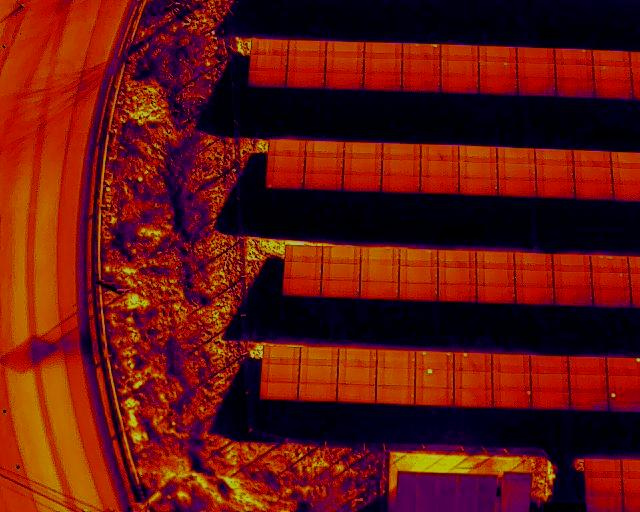Cell: (416, 368, 454, 387), (454, 353, 491, 372), (493, 390, 531, 408), (478, 60, 516, 76), (555, 49, 592, 65), (266, 173, 303, 188)
Cell-Multi: (415, 351, 453, 369), (402, 42, 441, 58)
No-Anomaly: (592, 289, 631, 308), (441, 74, 480, 93), (376, 385, 415, 404), (518, 77, 556, 96), (401, 74, 441, 92), (585, 458, 622, 477), (455, 371, 492, 390), (438, 284, 477, 302), (376, 368, 415, 386), (287, 39, 326, 57), (459, 145, 497, 163), (300, 347, 338, 365), (438, 250, 476, 268), (399, 283, 437, 301), (400, 249, 438, 267), (377, 350, 415, 368), (338, 349, 376, 367), (306, 140, 344, 158), (552, 254, 590, 272), (592, 272, 630, 290), (283, 279, 321, 297), (364, 41, 402, 59), (492, 354, 530, 372), (326, 40, 364, 58), (570, 392, 608, 410), (364, 72, 402, 90), (593, 65, 631, 83), (337, 384, 375, 402), (298, 383, 336, 401), (531, 373, 569, 391), (416, 388, 454, 406), (338, 367, 376, 385), (300, 365, 338, 383), (260, 382, 298, 400), (454, 389, 492, 407), (479, 76, 517, 94), (515, 252, 552, 270), (360, 264, 397, 282), (286, 245, 323, 263), (569, 356, 606, 374), (585, 478, 622, 496), (402, 58, 439, 76), (325, 71, 362, 89), (531, 355, 568, 373), (535, 164, 574, 181), (535, 148, 574, 165), (399, 266, 438, 283), (305, 157, 344, 174), (516, 46, 555, 63), (594, 82, 633, 99), (286, 71, 325, 88), (263, 346, 299, 364), (251, 38, 287, 56), (383, 160, 421, 177), (537, 180, 575, 197), (591, 255, 629, 272), (421, 160, 459, 177), (421, 177, 459, 194), (575, 183, 613, 200), (323, 246, 361, 263), (515, 287, 553, 304), (361, 248, 399, 265), (476, 252, 514, 269), (360, 281, 398, 298), (476, 268, 514, 285), (321, 280, 359, 297), (515, 270, 553, 287), (573, 150, 611, 167), (344, 142, 382, 159), (459, 161, 497, 178), (382, 176, 420, 193), (554, 289, 592, 306), (322, 263, 360, 280), (556, 79, 594, 96), (531, 391, 569, 408), (517, 62, 555, 79), (478, 45, 516, 62), (248, 70, 286, 87), (569, 375, 607, 392), (492, 373, 530, 390), (498, 147, 535, 164), (498, 163, 535, 180), (553, 271, 590, 288), (284, 262, 321, 279), (261, 364, 298, 381), (344, 158, 383, 174), (592, 50, 631, 66), (421, 144, 459, 160), (498, 180, 536, 196), (459, 178, 497, 194), (477, 286, 515, 302), (383, 143, 421, 159), (304, 174, 342, 190), (343, 175, 381, 191), (438, 268, 476, 284), (287, 56, 325, 72), (364, 58, 402, 74), (440, 59, 478, 75), (575, 166, 612, 182), (326, 56, 363, 72), (440, 44, 477, 60), (269, 140, 305, 156), (268, 156, 304, 172), (585, 497, 623, 512), (250, 56, 287, 71), (556, 65, 593, 80)
